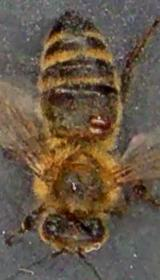varroa_mite: (80, 110, 116, 139)
